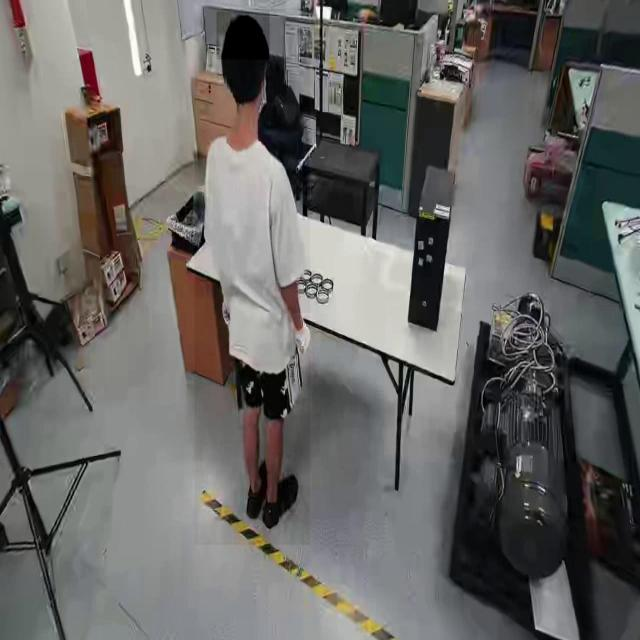hand_glove: (292, 313, 313, 372)
head_nohelmet: (216, 12, 270, 61)
person: (194, 9, 310, 546)
shoes: (260, 468, 304, 536), (242, 454, 274, 527)
